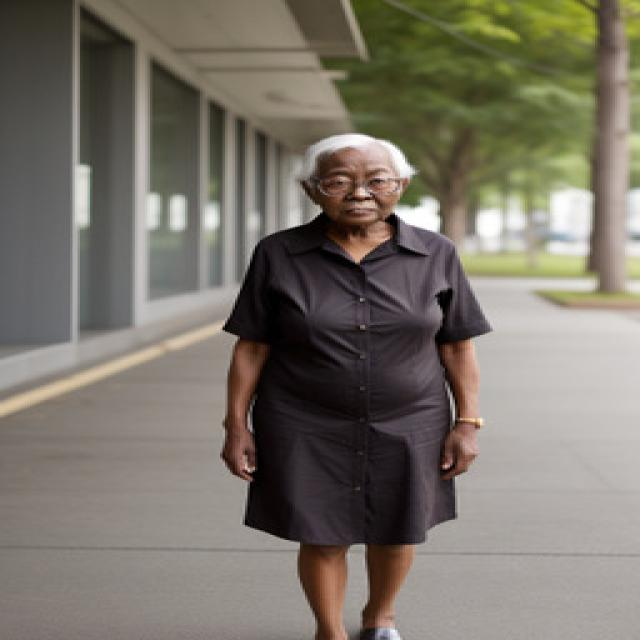Ai human 2: (209, 124, 519, 640)
